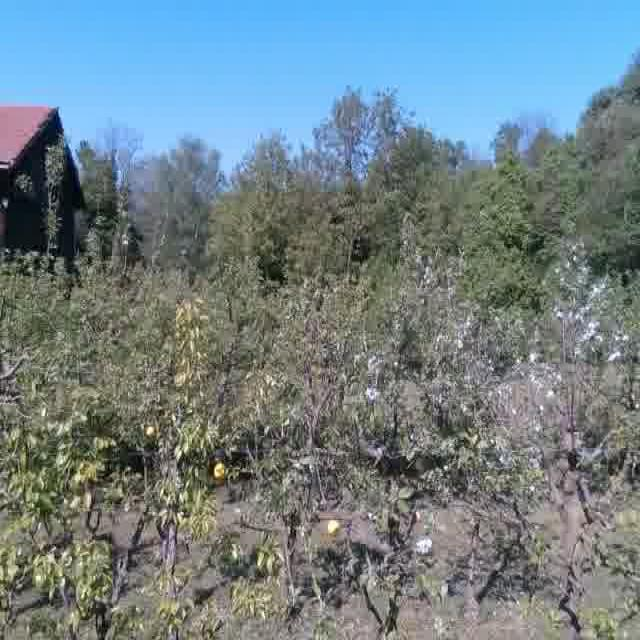yellow: (324, 516, 342, 540), (211, 460, 229, 482)
